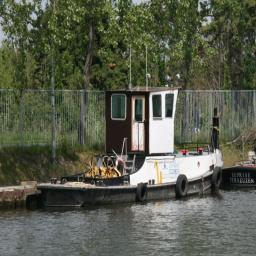tugboat: (35, 81, 225, 206)
